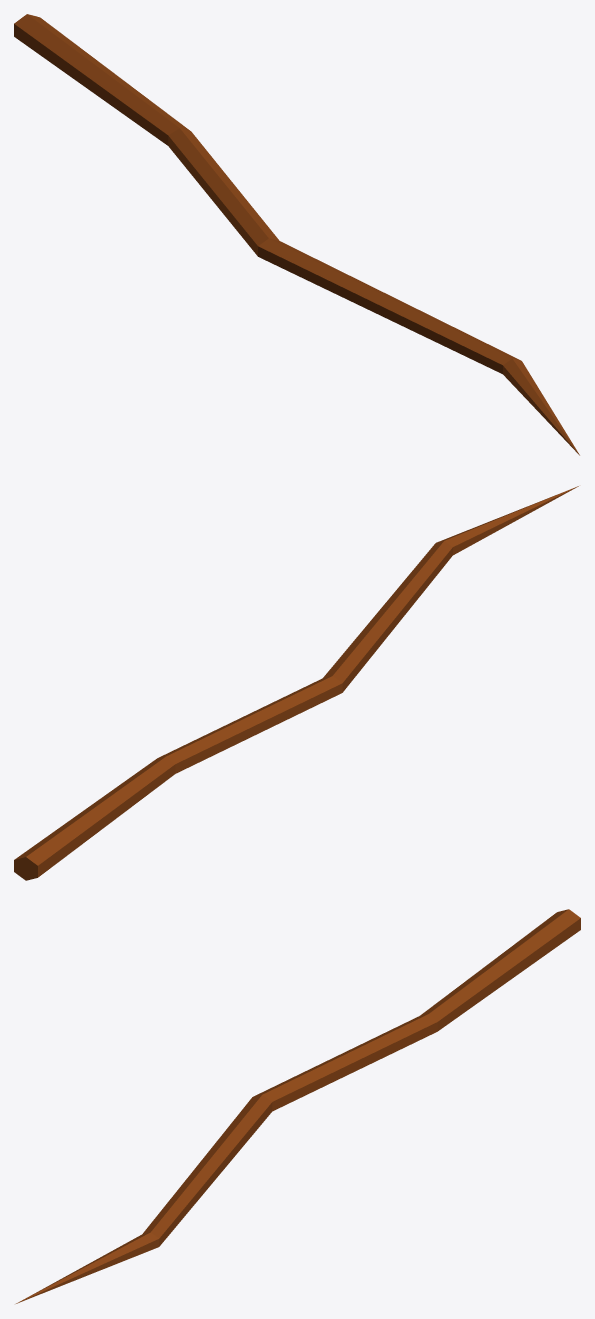
The model's file is Vegetation_Tree_Roots_Vines_Snaking_04.FBX.
3 views of the same model, one above another, from view 1: azimuth 30°, elevation 25°; view 2: azimuth 150°, elevation 25°; view 3: azimuth 330°, elevation 25° (orthographic). The views are drawn at different scales.
Visible parts, largest first — view 1: Vegetation_Tree_Roots_Vines_Snaking_04; view 2: Vegetation_Tree_Roots_Vines_Snaking_04; view 3: Vegetation_Tree_Roots_Vines_Snaking_04.
Boxes of the visible parts, <box> form: Vegetation_Tree_Roots_Vines_Snaking_04: <box>14,14,579,455</box>; Vegetation_Tree_Roots_Vines_Snaking_04: <box>14,486,578,880</box>; Vegetation_Tree_Roots_Vines_Snaking_04: <box>16,909,580,1303</box>.
Size of the model in its own units: 581 by 177 by 7175.
